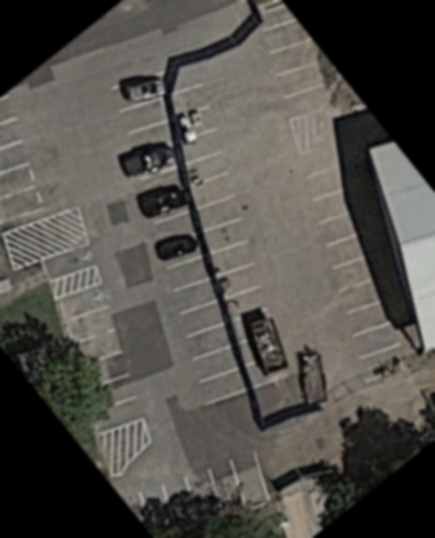parkingspot: (110, 71, 251, 409), (303, 159, 414, 385), (180, 126, 270, 325), (57, 282, 148, 437), (137, 449, 273, 538), (259, 18, 336, 123), (0, 91, 51, 230), (41, 240, 100, 284), (167, 80, 215, 121)
